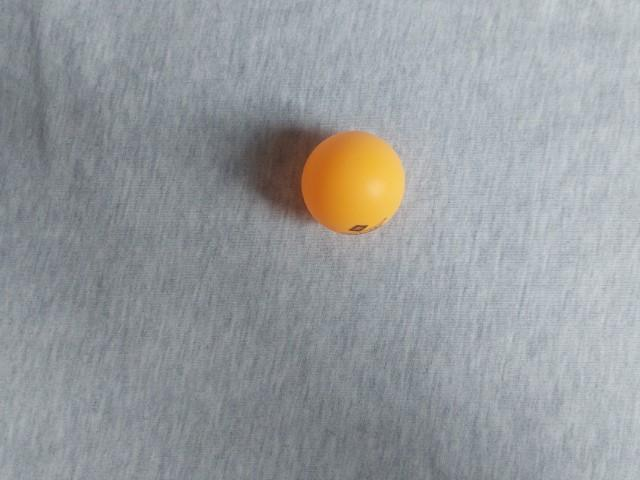oball: (225, 236, 345, 355)
